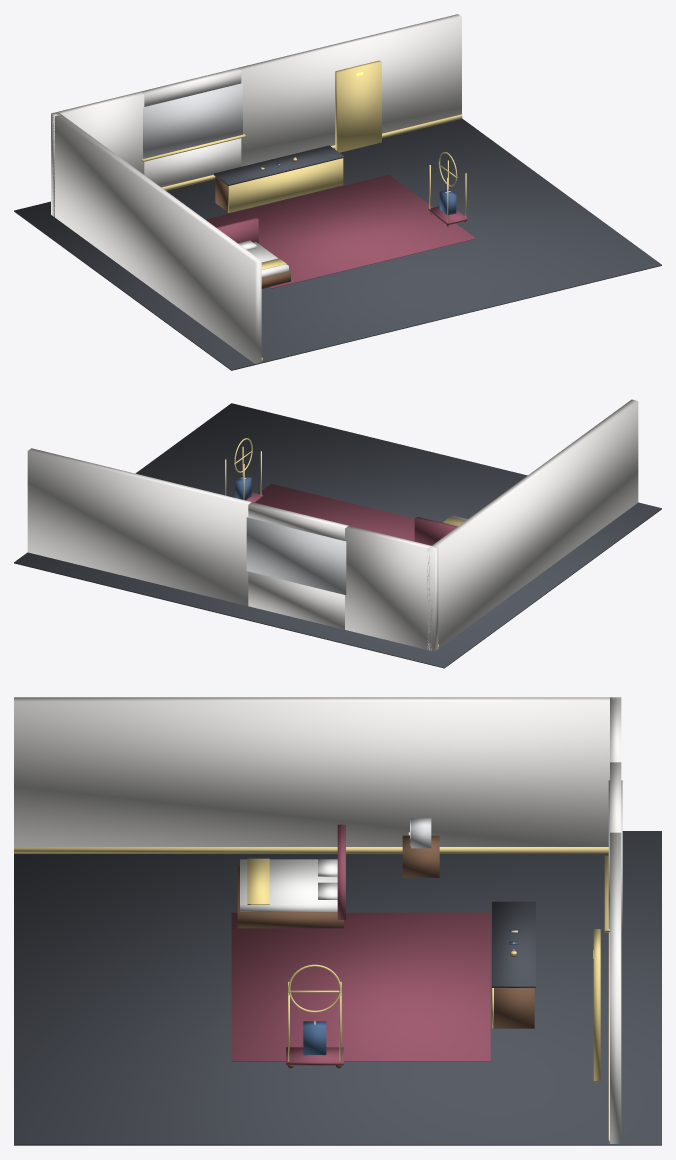
Rendered from hotel.glb.
3 views of the same model, one above another, from view 1: azimuth 30°, elevation 25°; view 2: azimuth 150°, elevation 25°; view 3: azimuth 270°, elevation 25° (orthographic). The views are drawn at different scales.
Parts seen in each view (by area): view 1: Hotel_Diorama, Reception_Desk, Elevator, King_Bed, Luggage_Cart; view 2: Hotel_Diorama, King_Bed, Luggage_Cart; view 3: Hotel_Diorama, King_Bed, Reception_Desk, Safe_Box, Luggage_Cart, Elevator, Suitcase.
Boxes of the visible parts, x1,y1,x2,y2 form: Hotel_Diorama: (14,14,661,370); Reception_Desk: (213,145,344,213); Elevator: (335,60,381,152); King_Bed: (216,217,290,288); Luggage_Cart: (428,152,467,226); Hotel_Diorama: (14,399,661,668); King_Bed: (414,515,467,545); Luggage_Cart: (225,438,263,502); Hotel_Diorama: (14,697,661,1145); King_Bed: (237,824,345,928); Reception_Desk: (492,901,535,1028); Safe_Box: (402,818,439,877); Luggage_Cart: (286,964,343,1068); Elevator: (593,929,600,1080); Suitcase: (303,1020,326,1055).
Bounding box in the file's own units: 16 × 3.64 × 14.
